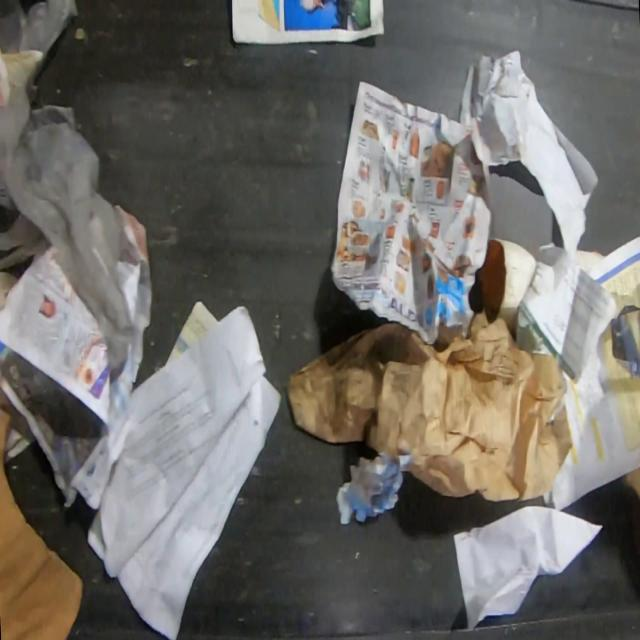cardboard: (0, 407, 84, 639), (478, 237, 539, 337), (620, 467, 640, 496)
soft_plastic: (0, 0, 133, 383)
